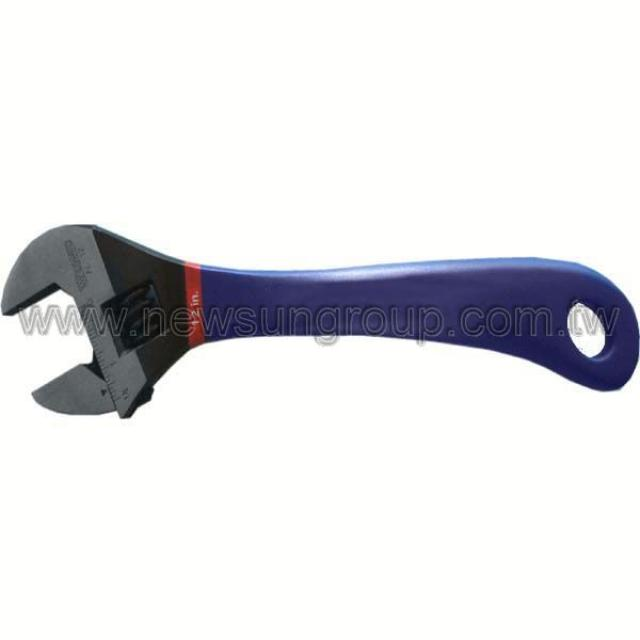wrench: (0, 142, 640, 430)
